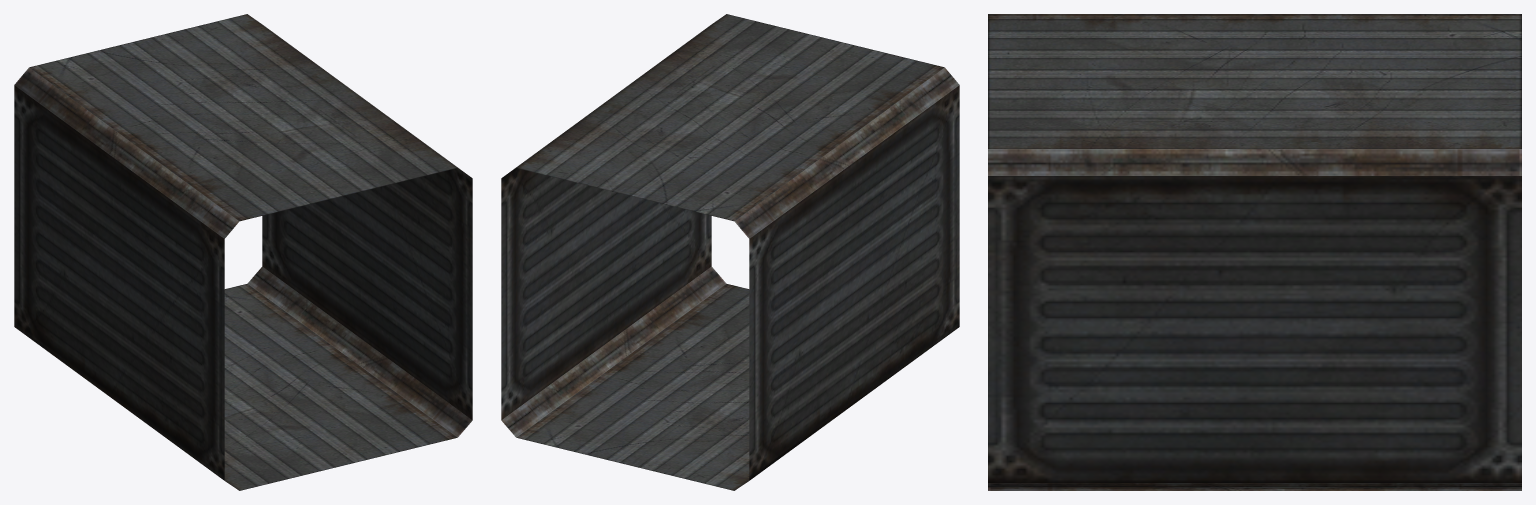
File: trainstation_maintenance_tunnels_straight.dae
3 views of the same model, side by side, from view 1: azimuth 30°, elevation 25°; view 2: azimuth 150°, elevation 25°; view 3: azimuth 270°, elevation 25° (orthographic). The views are drawn at different scales.
Visible parts, largest first — view 1: straight; view 2: straight; view 3: straight.
Boxes of the visible parts, bbox=[...] form: straight: bbox=[14, 14, 472, 490]; straight: bbox=[501, 14, 959, 490]; straight: bbox=[988, 14, 1521, 490].
Size of the model in its own units: 1.36 by 1.41 by 2.
